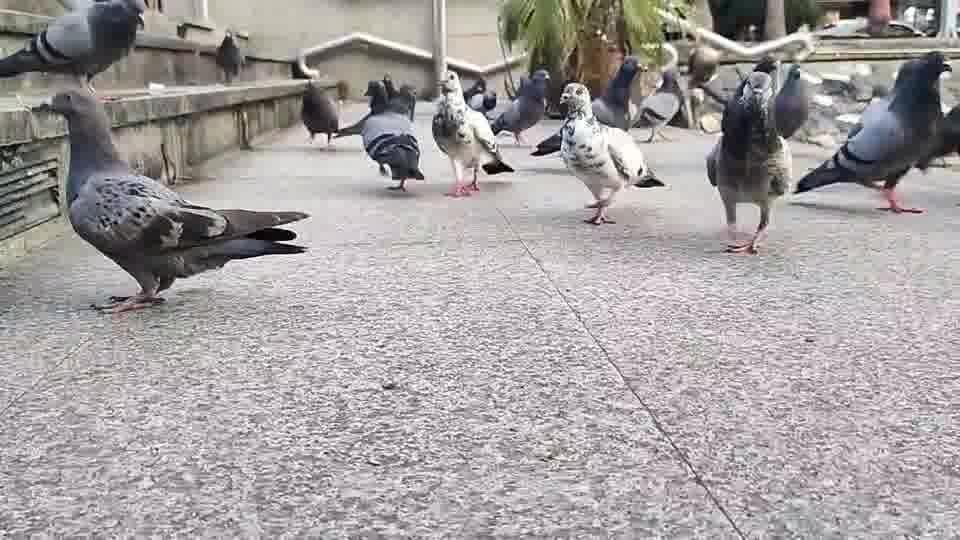Pigeon: (34, 88, 311, 313), (791, 49, 953, 214), (529, 81, 668, 225), (698, 63, 796, 255), (0, 0, 148, 95), (529, 55, 647, 157), (430, 70, 514, 197), (332, 78, 424, 192), (489, 68, 551, 146), (590, 55, 647, 131), (630, 67, 684, 143), (300, 80, 341, 146), (214, 28, 247, 85)
